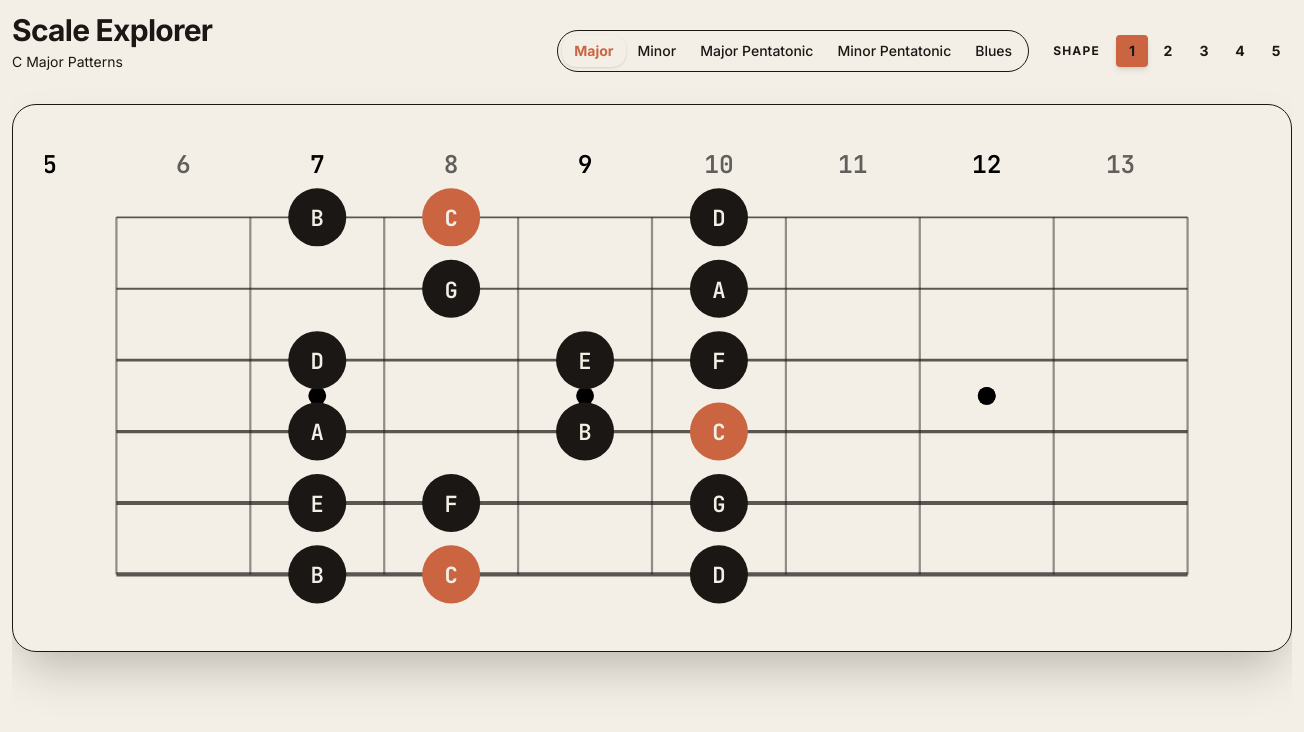
Test: ScaleExplorer › Blues tab always shows the minor pentatonic blues scale
Click the button "Major Pentatonic" at (757, 51), box [688, 35, 826, 67]
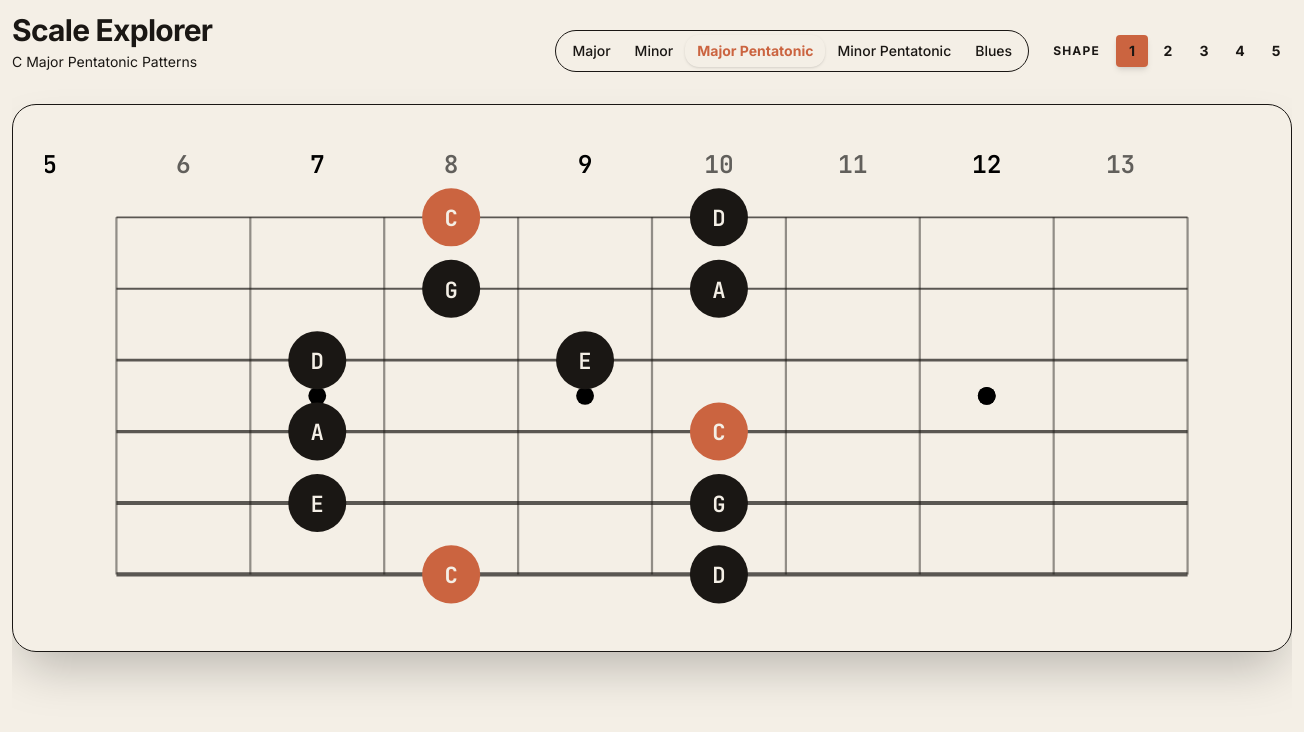
Click the button "Blues" at (994, 51), box [963, 35, 1024, 67]
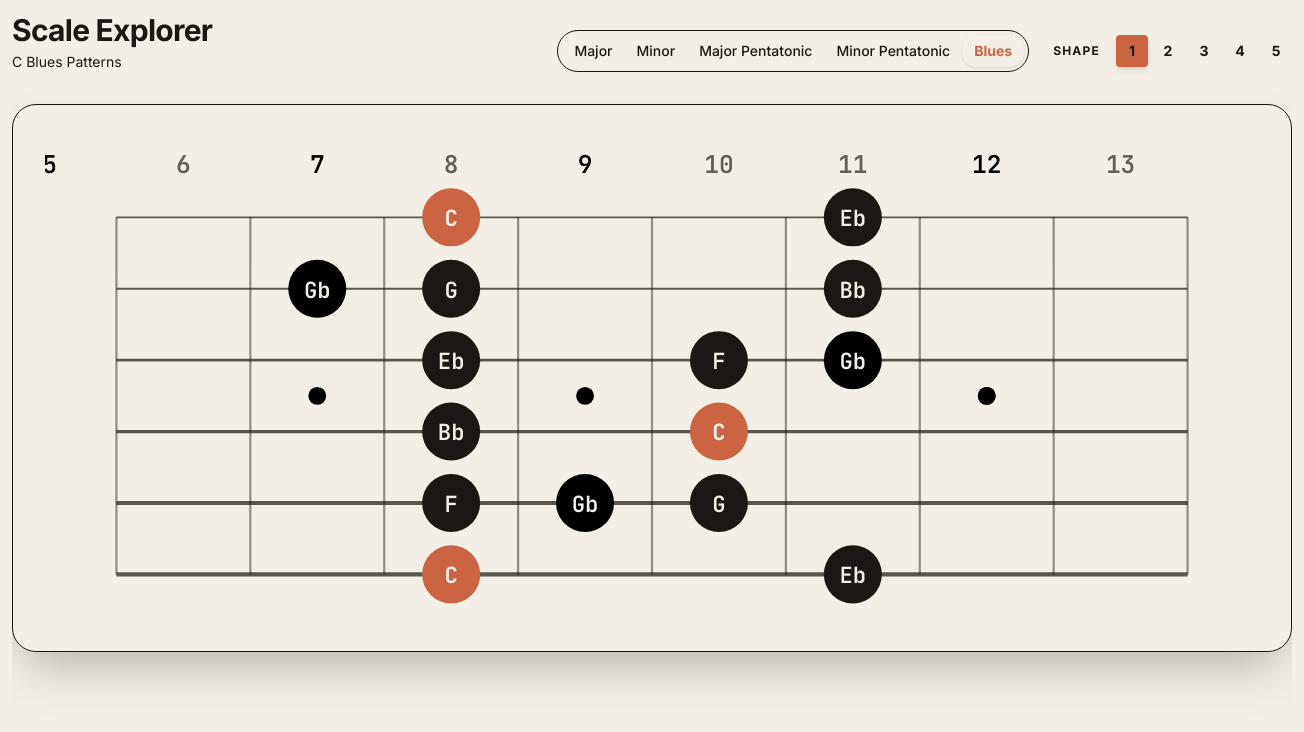
Expected: the text "C Blues Patterns" is shown, [12, 53, 122, 70]
Click the button "Minor Pentatonic" at (893, 51), box [824, 35, 962, 67]
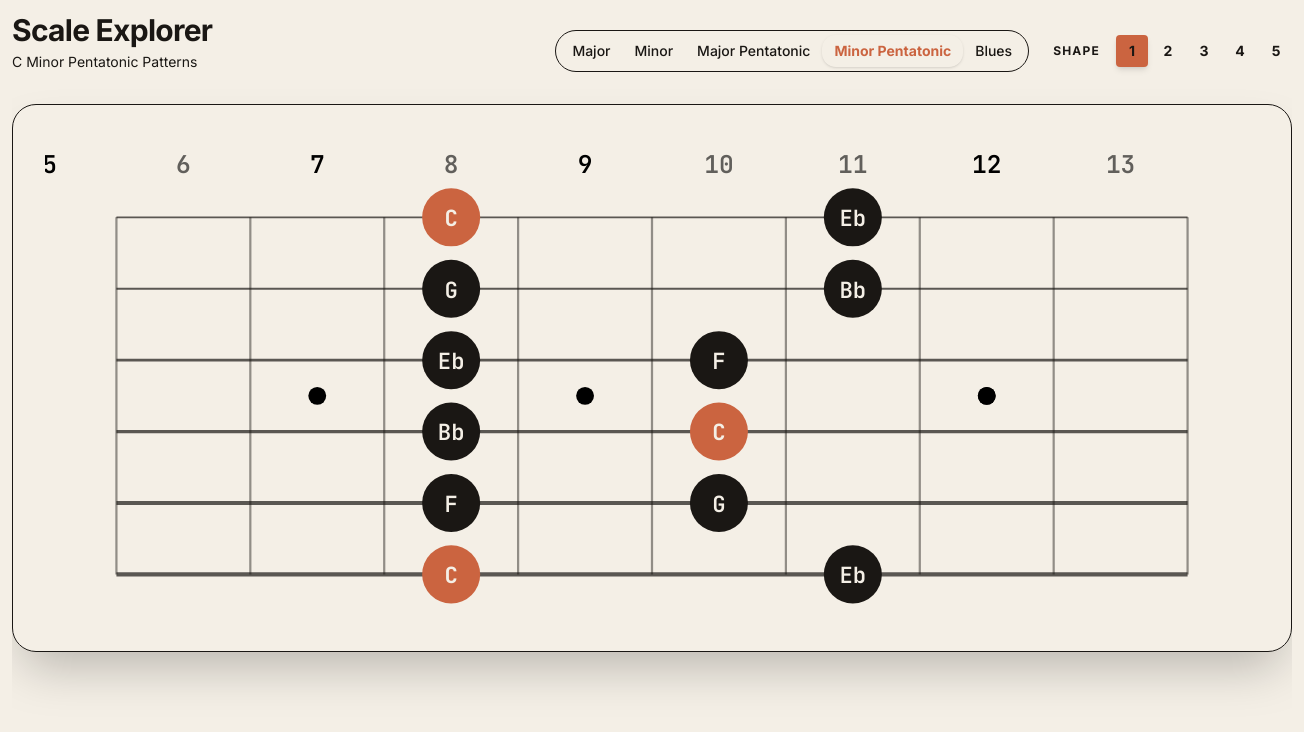
Click the button "Blues" at (994, 51), box [963, 35, 1024, 67]
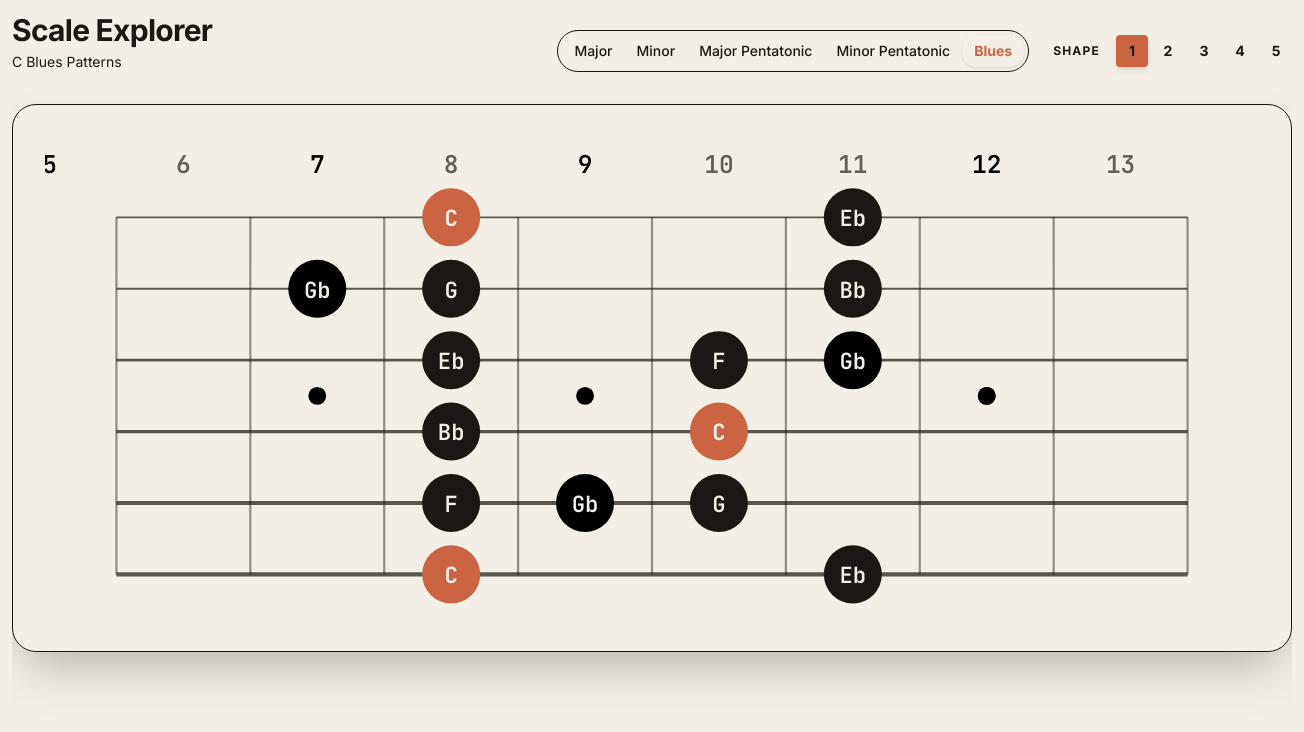
Expected: the text "C Blues Patterns" is shown, [12, 53, 122, 70]
